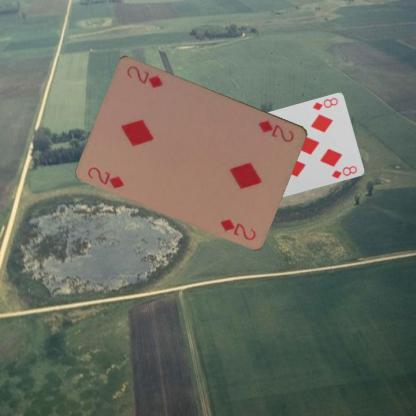2d: (256, 117, 296, 144), (85, 164, 126, 190)
8d: (310, 95, 339, 112)
